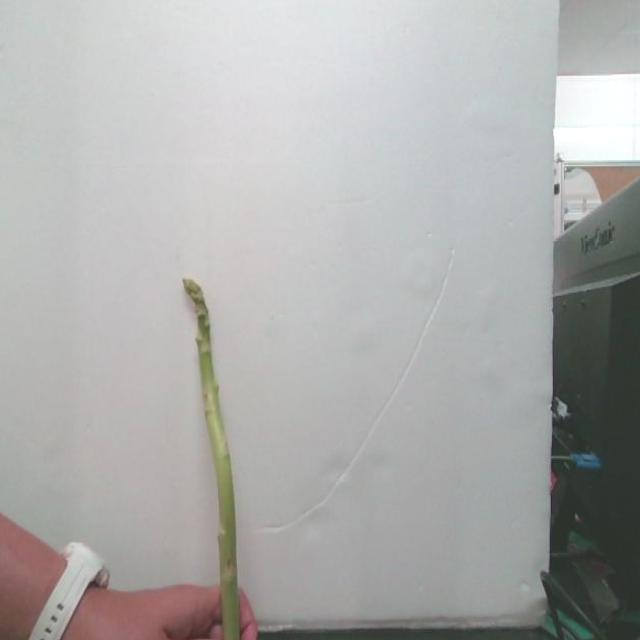aspargus: (183, 279, 245, 640)
